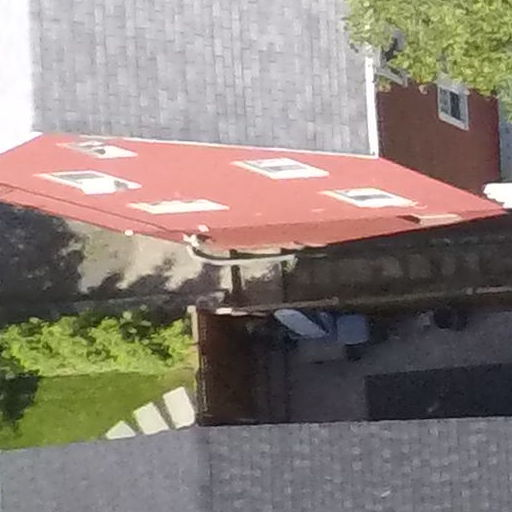container: (434, 305, 472, 333)
fence: (179, 275, 512, 332)
garbage bin: (338, 308, 394, 359)
gutter: (188, 250, 309, 281)
